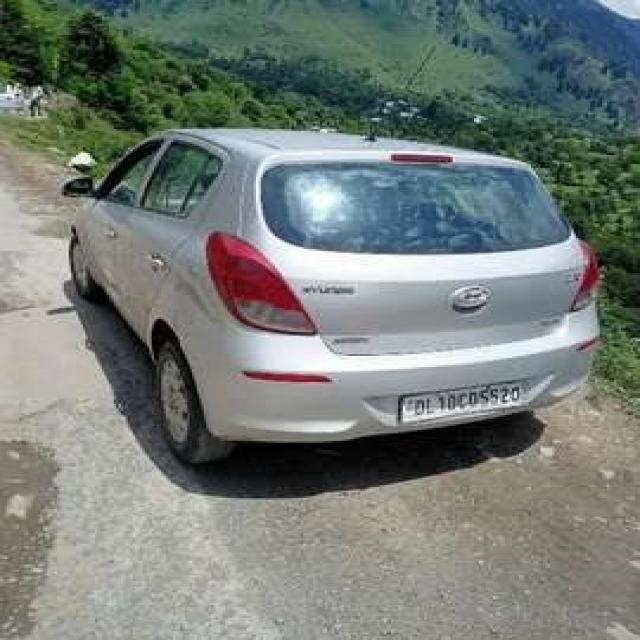licenseplate: (394, 380, 526, 424)
